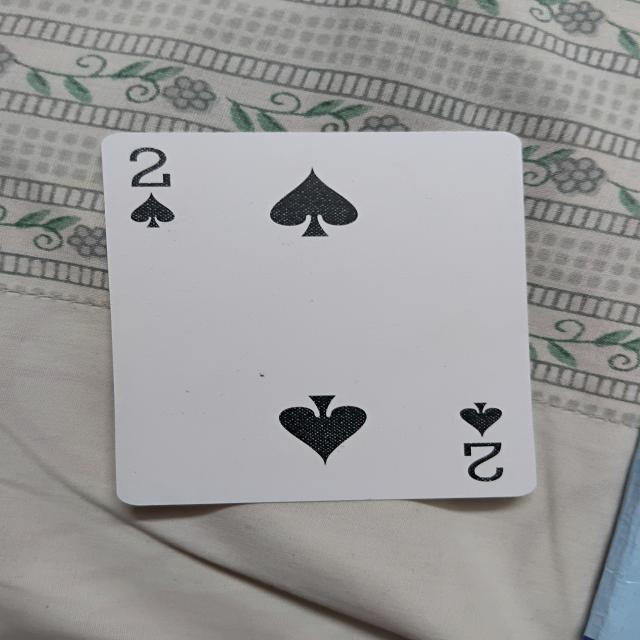2S: (81, 131, 549, 504)
